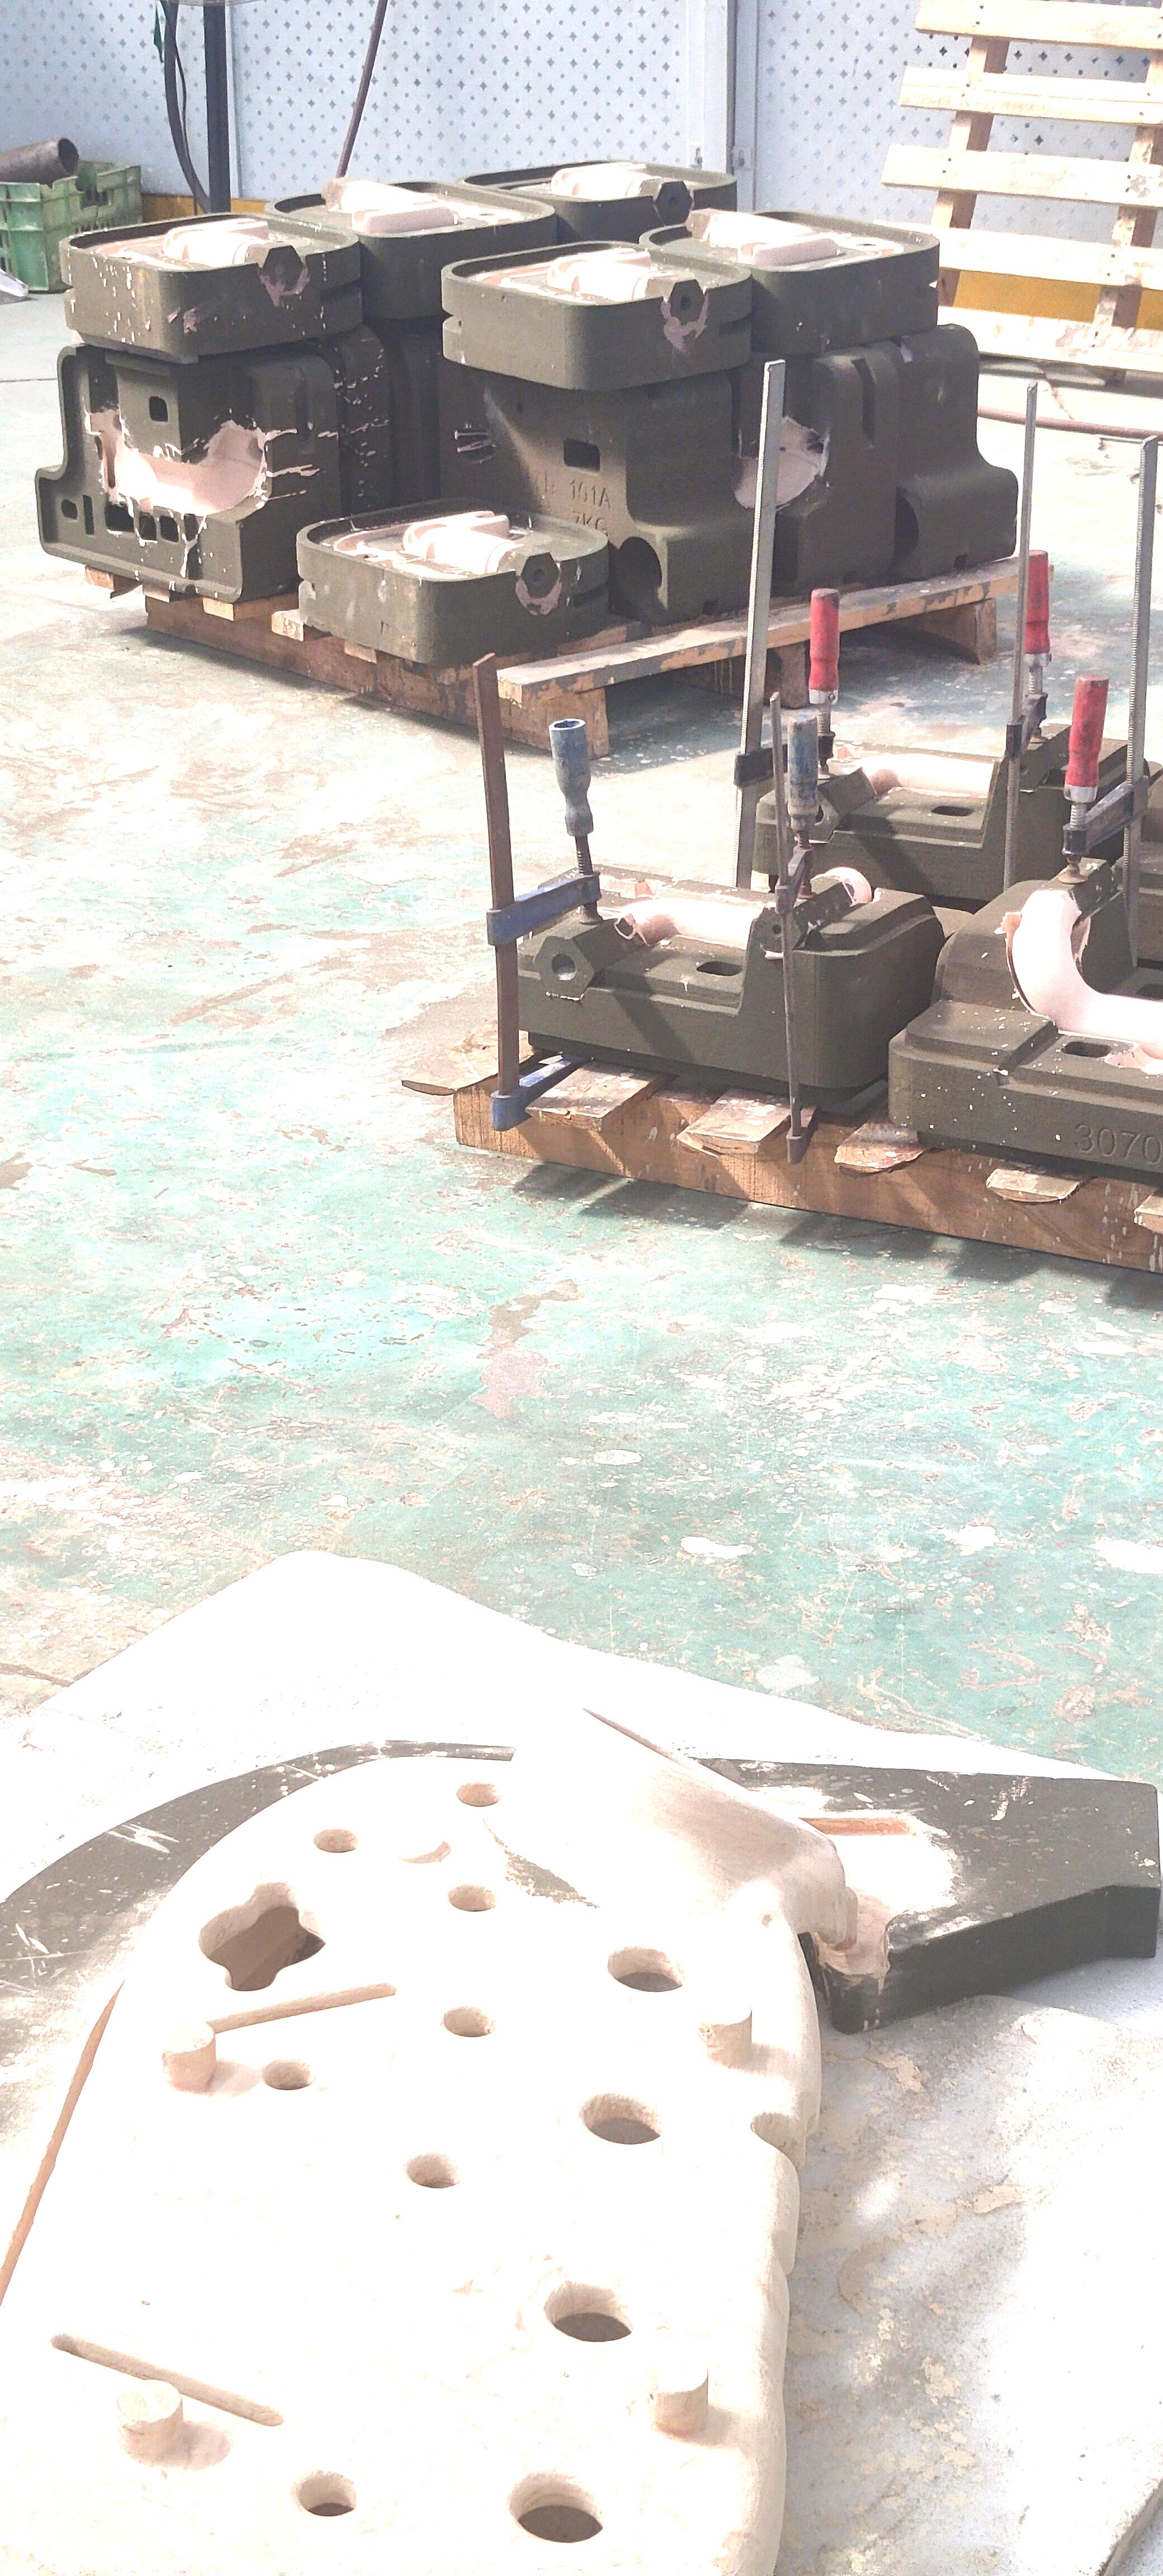pouring hole: (869, 493, 920, 565), (616, 536, 664, 606)
